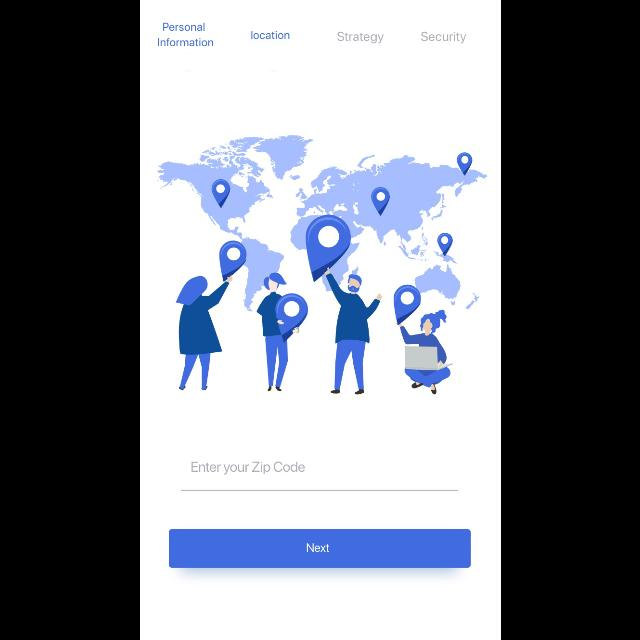image: (155, 135, 487, 395)
input: (180, 461, 458, 491)
text: (190, 462, 304, 474), (157, 23, 213, 47), (337, 32, 383, 44), (420, 32, 466, 44), (250, 30, 290, 40)
textbutton: (168, 528, 470, 568)
